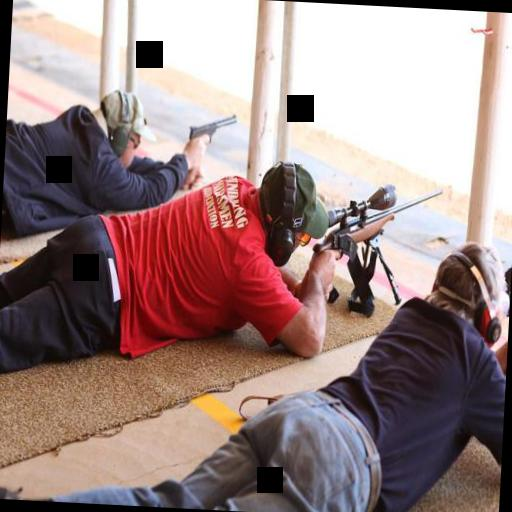Handgun: (182, 108, 238, 156)
